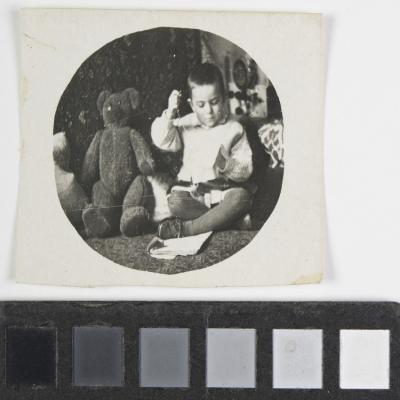photos_negatives: (21, 10, 320, 281)
